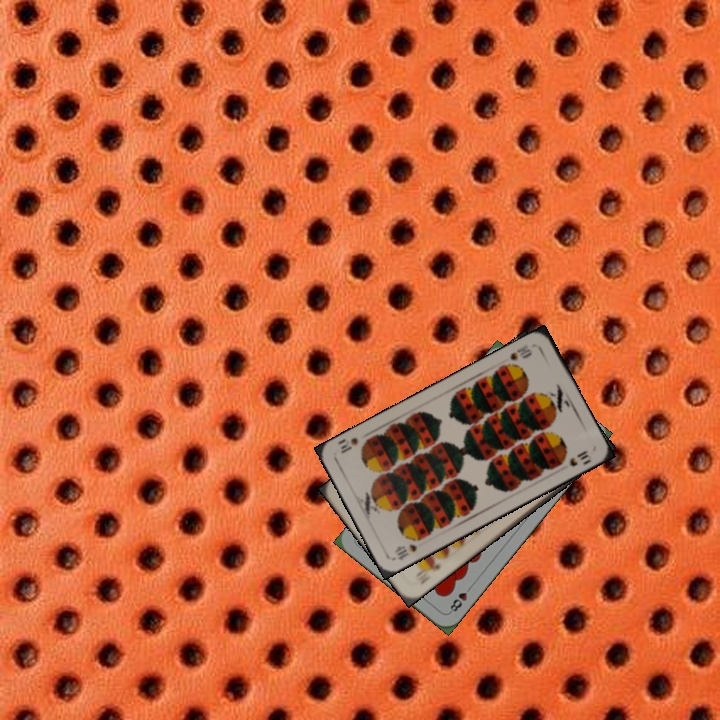E10: (414, 557, 444, 584)
H8: (445, 581, 475, 616)
S10: (390, 540, 420, 563), (506, 340, 535, 363)
